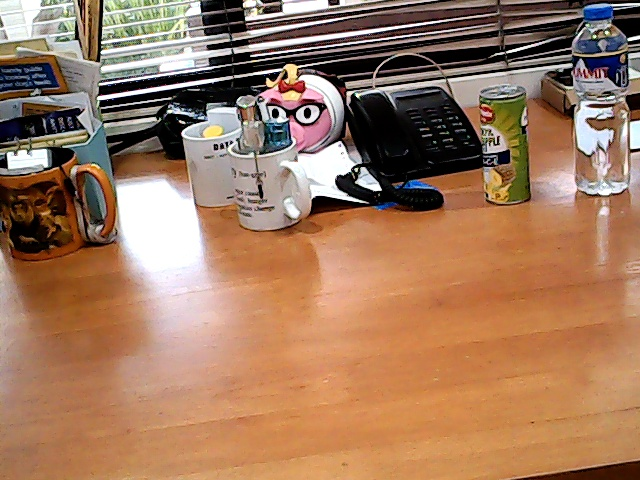Pine Juice: (472, 75, 541, 217)
Summit Water: (561, 1, 640, 215)
